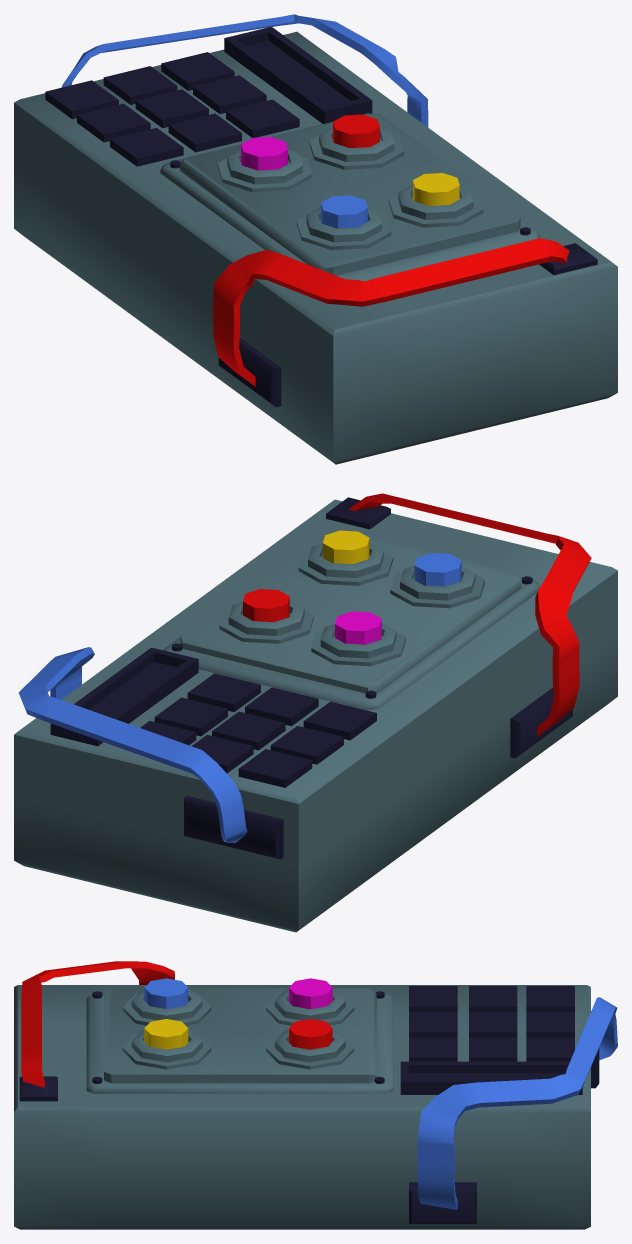
File: BombProto.glb
The picture shows the model from 3 angles, top to bottom: view 1: azimuth 30°, elevation 25°; view 2: azimuth 150°, elevation 25°; view 3: azimuth 270°, elevation 25°; orthographic projection. The views are drawn at different scales.
Parts seen in each view (by area): view 1: BombBase, ButtonHolder, Keypad, Wire, ButtonOutline, Timer, WireLeft, WireConnect, Button.003, Button, Button.001, Button.002 (+1 smaller); view 2: BombBase, ButtonHolder, Keypad, ButtonOutline, WireLeft, Wire, Timer, ConnectorLeft, WireConnect, Button.002, Button.001, Button (+2 smaller); view 3: BombBase, ButtonHolder, Keypad, WireLeft, ButtonOutline, Timer, Wire, ConnectorBack, Button.002, Button.001, Button, Button.003 (+1 smaller).
Part boxes in pixels (x1=…): BombBase: x1=14, y1=31, x2=617, y2=464; ButtonHolder: x1=160, y1=113, x2=539, y2=281; Keypad: x1=45, y1=52, x2=299, y2=166; Wire: x1=213, y1=238, x2=569, y2=386; ButtonOutline: x1=217, y1=127, x2=483, y2=250; Timer: x1=224, y1=27, x2=372, y2=123; WireLeft: x1=61, y1=14, x2=428, y2=127; WireConnect: x1=218, y1=337, x2=281, y2=407; Button.003: x1=241, y1=137, x2=287, y2=170; Button: x1=333, y1=114, x2=379, y2=147; Button.001: x1=413, y1=173, x2=459, y2=205; Button.002: x1=321, y1=195, x2=367, y2=228; BombBase: x1=14, y1=499, x2=617, y2=932; ButtonHolder: x1=163, y1=529, x2=539, y2=710; Keypad: x1=140, y1=673, x2=376, y2=787; ButtonOutline: x1=219, y1=543, x2=484, y2=666; WireLeft: x1=18, y1=647, x2=247, y2=842; Wire: x1=349, y1=493, x2=591, y2=736; Timer: x1=50, y1=647, x2=198, y2=746; ConnectorLeft: x1=184, y1=795, x2=283, y2=859; WireConnect: x1=510, y1=687, x2=572, y2=758; Button.002: x1=414, y1=553, x2=461, y2=586; Button.001: x1=322, y1=530, x2=369, y2=564; Button: x1=243, y1=589, x2=289, y2=622; BombBase: x1=14, y1=985, x2=590, y2=1229; ButtonHolder: x1=86, y1=988, x2=393, y2=1093; Keypad: x1=409, y1=986, x2=574, y2=1061; WireLeft: x1=417, y1=997, x2=617, y2=1209; ButtonOutline: x1=122, y1=989, x2=354, y2=1069; Timer: x1=400, y1=1061, x2=582, y2=1094; Wire: x1=21, y1=961, x2=174, y2=1087; ConnectorBack: x1=409, y1=1182, x2=476, y2=1223; Button.002: x1=144, y1=978, x2=188, y2=1009; Button.001: x1=144, y1=1019, x2=188, y2=1049; Button: x1=289, y1=1019, x2=332, y2=1049; Button.003: x1=289, y1=978, x2=332, y2=1009.
Bounding box in the file's own units: 0.1137 × 0.0546 × 0.1852.
